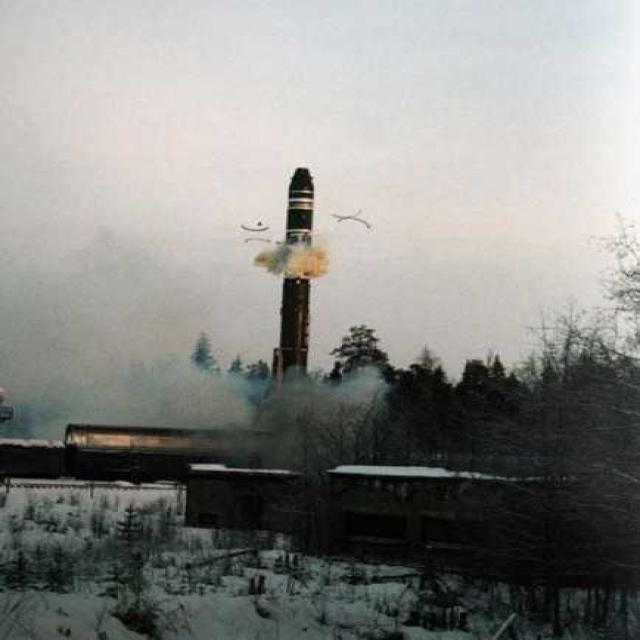missile: (276, 162, 318, 358)
